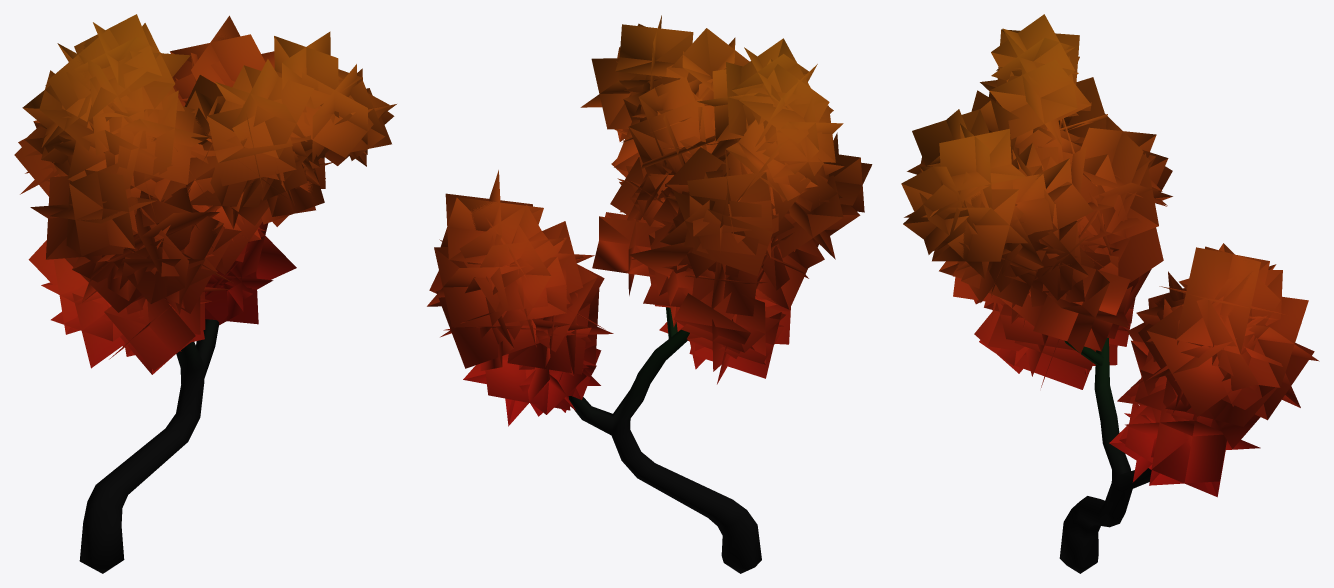
File: TGV_Beech_Sapling_01A.fbx
3 views of the same model, side by side, from view 1: azimuth 30°, elevation 25°; view 2: azimuth 150°, elevation 25°; view 3: azimuth 270°, elevation 25° (orthographic). The views are drawn at different scales.
Parts seen in each view (by area): view 1: TGV_Beech_Sapling_01A_LOD0; view 2: TGV_Beech_Sapling_01A_LOD0; view 3: TGV_Beech_Sapling_01A_LOD0.
Part boxes in pixels (x1,y1,x2,y2): TGV_Beech_Sapling_01A_LOD0: (14, 14, 396, 573); TGV_Beech_Sapling_01A_LOD0: (427, 15, 872, 573); TGV_Beech_Sapling_01A_LOD0: (901, 14, 1319, 573).
Size of the model in its own units: 260 by 387 by 269.
